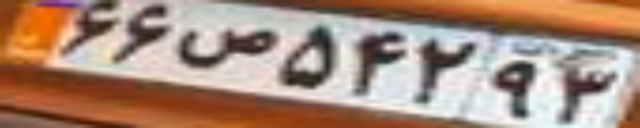2: (409, 38, 477, 105)
3: (558, 67, 621, 125)
4: (351, 32, 404, 99)
5: (280, 22, 338, 93)
6: (112, 0, 171, 68), (57, 1, 117, 64)
9: (491, 59, 536, 120)
saat: (176, 23, 279, 71)
